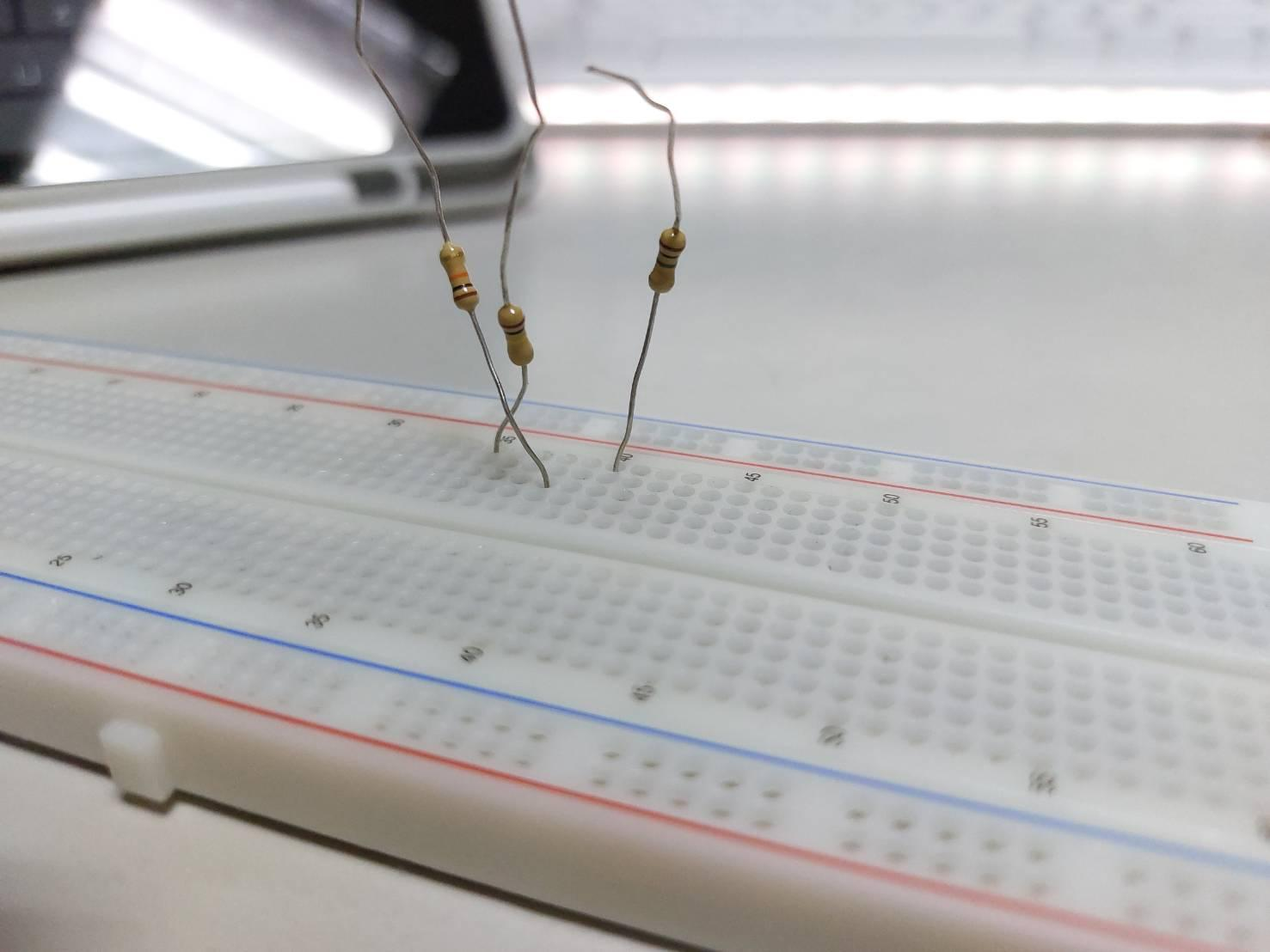resistor: (439, 245, 481, 312), (648, 228, 687, 296), (499, 304, 535, 367)
